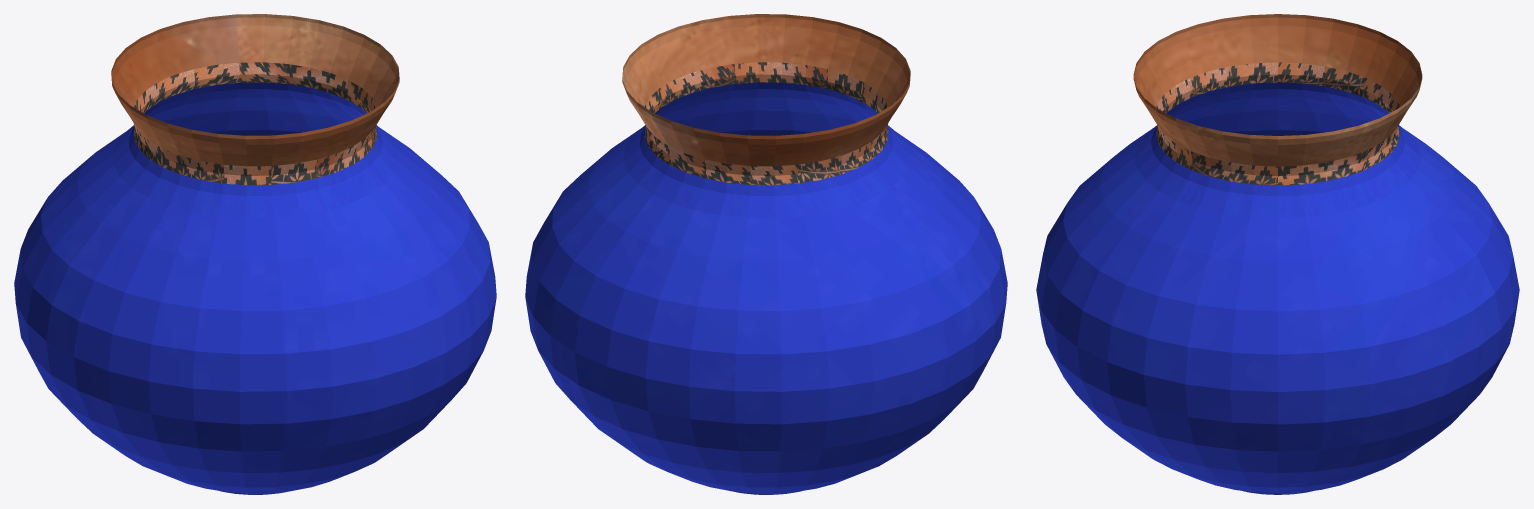
File: pitcher_full.obj
The picture shows the model from 3 angles, left to right: view 1: azimuth 30°, elevation 25°; view 2: azimuth 150°, elevation 25°; view 3: azimuth 270°, elevation 25°; orthographic projection.
Parts seen in each view (by area): view 1: Circle; view 2: Circle; view 3: Circle.
Boxes of the visible parts, bbox=[...] form: Circle: bbox=[14, 14, 496, 494]; Circle: bbox=[525, 14, 1007, 494]; Circle: bbox=[1036, 14, 1519, 494].
Size of the model in its own units: 0.948 by 0.84 by 0.948.
